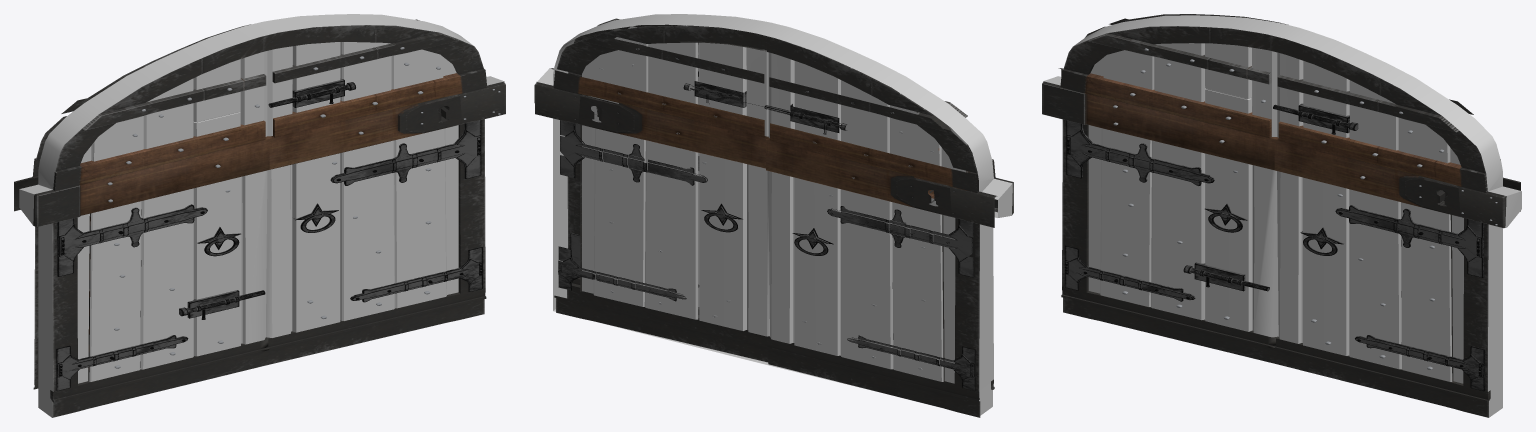
The model's file is door.fbx.
The picture shows the model from 3 angles, left to right: view 1: azimuth 30°, elevation 25°; view 2: azimuth 150°, elevation 25°; view 3: azimuth 330°, elevation 25°; orthographic projection.
Parts seen in each view (by area): view 1: door, door.001; view 2: door, door.001; view 3: door.001, door.
Boxes of the visible parts, x1=… form: door: x1=14, y1=24, x2=271, y2=417; door.001: x1=254, y1=14, x2=505, y2=364; door: x1=764, y1=25, x2=1013, y2=417; door.001: x1=534, y1=14, x2=779, y2=364; door.001: x1=1273, y1=25, x2=1521, y2=417; door: x1=1042, y1=14, x2=1290, y2=364.
Size of the model in its own units: 806 by 542 by 72.43.
